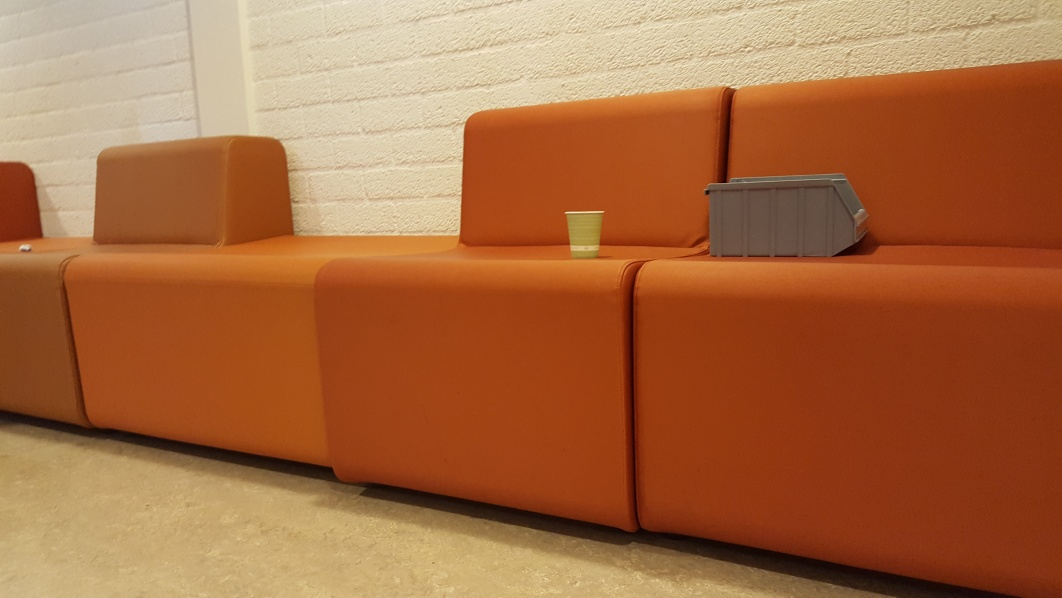cup: (563, 210, 607, 257)
tray: (702, 168, 871, 261)
